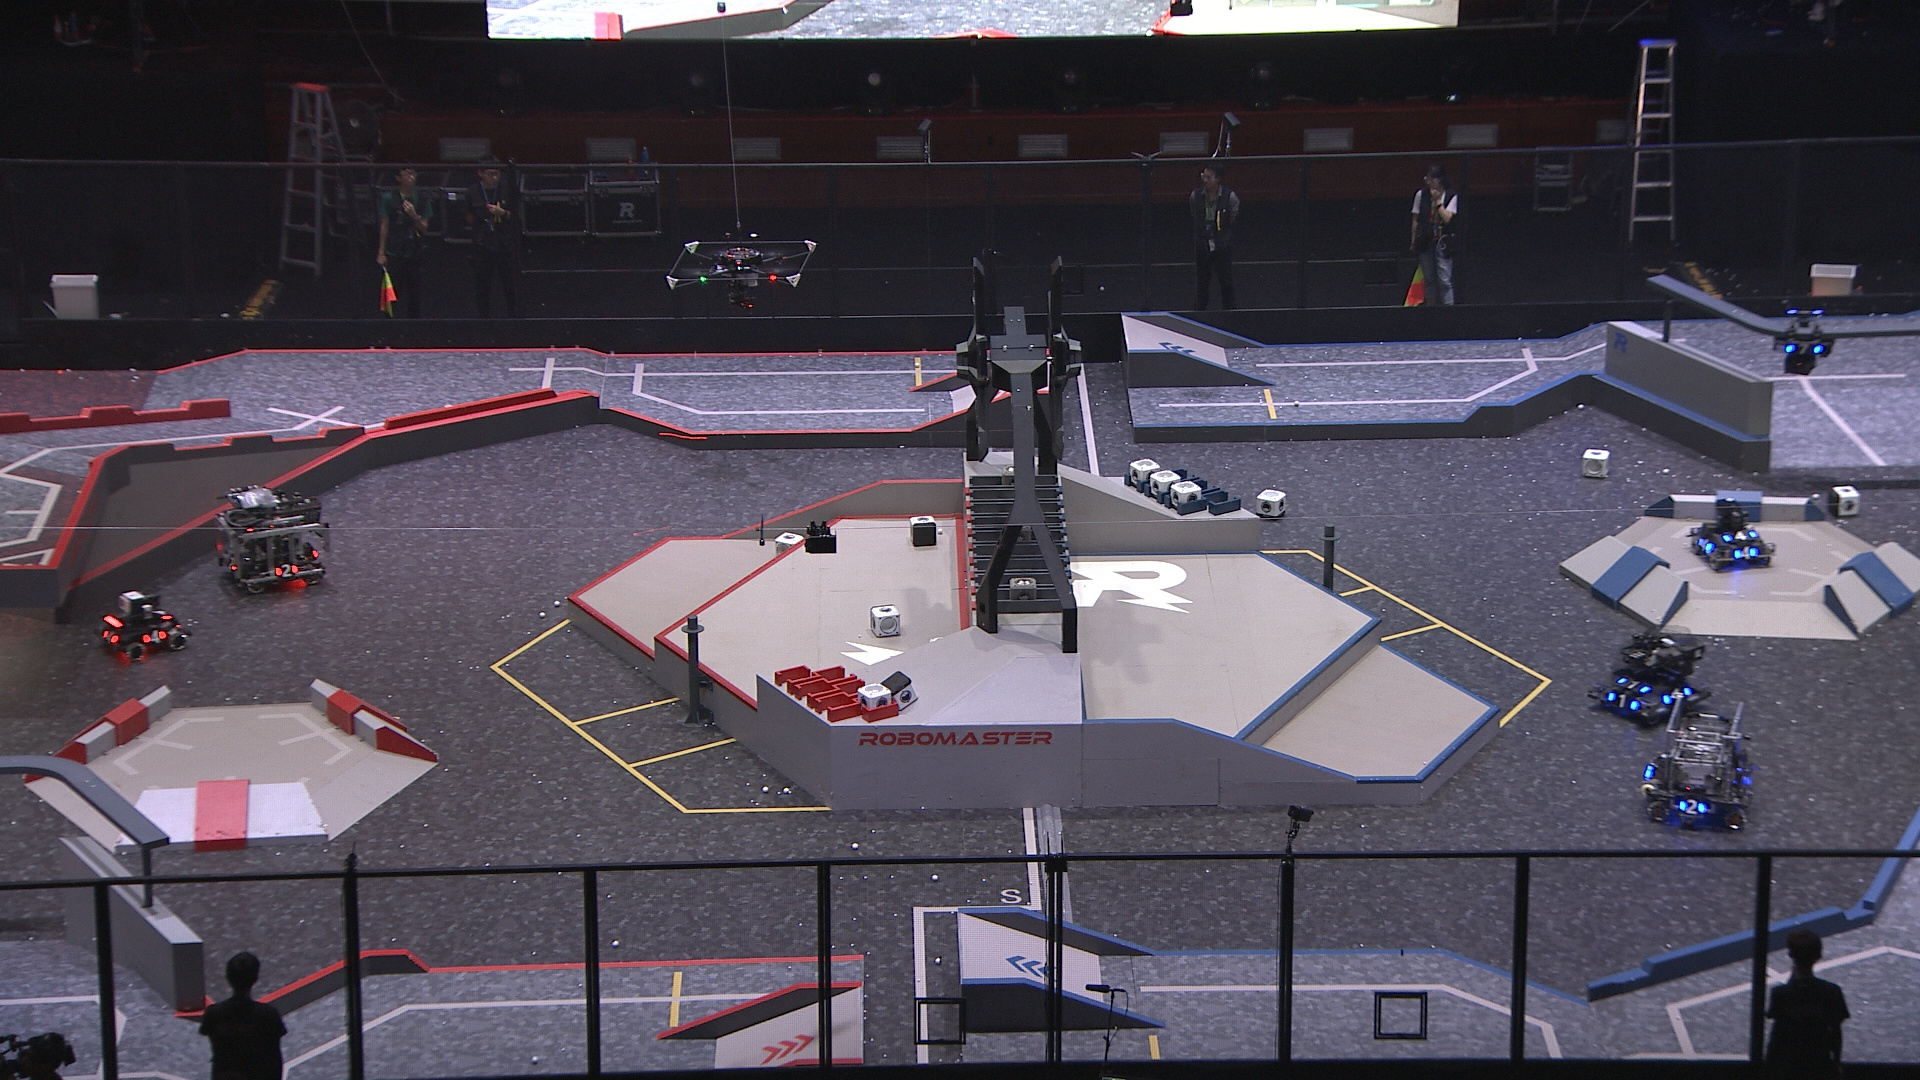armor: (1605, 688, 1640, 713), (1619, 673, 1652, 698), (1783, 339, 1825, 357), (138, 624, 169, 647), (1676, 796, 1708, 818), (98, 626, 121, 654), (272, 560, 301, 582), (1662, 687, 1695, 705), (1731, 545, 1759, 564), (1722, 527, 1756, 543), (219, 553, 239, 574), (1695, 535, 1716, 555), (150, 607, 171, 622)
car: (1640, 695, 1760, 831), (210, 481, 332, 599), (1589, 626, 1709, 725), (94, 585, 193, 666), (1687, 495, 1776, 571)
watcher: (1768, 305, 1833, 377)
